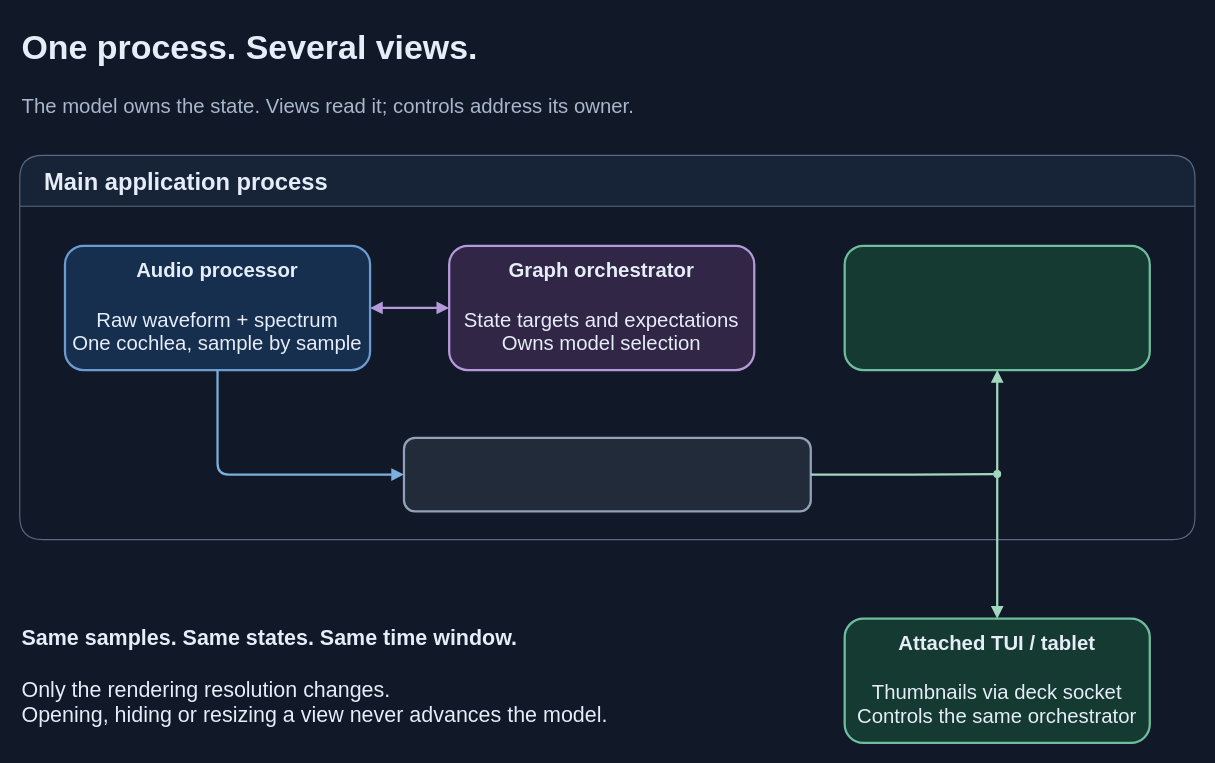
Some shapes in this 1215 by 763 pixel diagram are drawn without their labels. The centre of each missing label's shape, as x and y in pixels:
"Qt / projector Full-resolution audio plots Shared model selector" belongs at point (996, 307).
"Read-only audio history Bounded arrays + one sample clock" belongs at point (606, 474).
